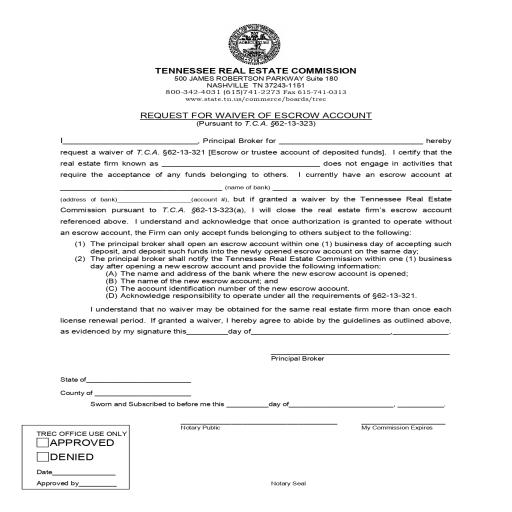Signature: (269, 354, 328, 362)
check_box: (34, 436, 120, 466)
date: (360, 424, 434, 432), (34, 467, 54, 477)
free_text: (180, 424, 224, 434), (38, 478, 80, 486), (60, 388, 92, 396), (60, 375, 88, 384)
